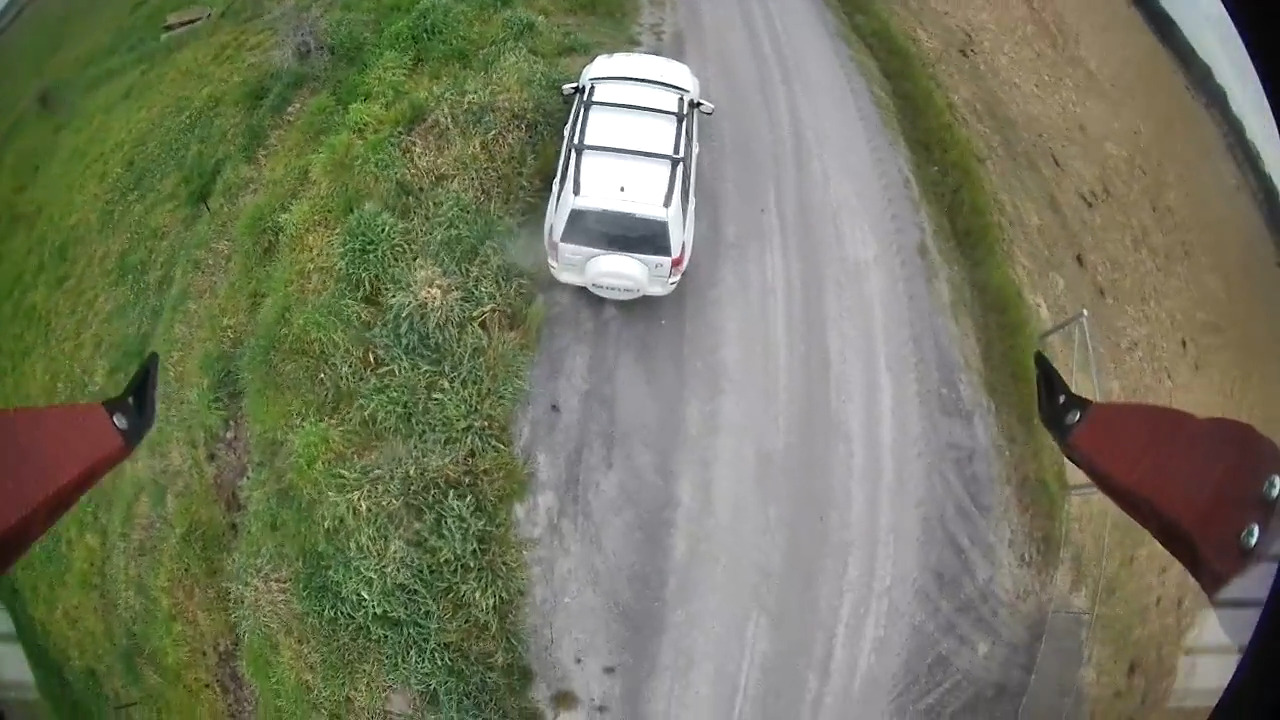Car: (543, 52, 714, 300)
